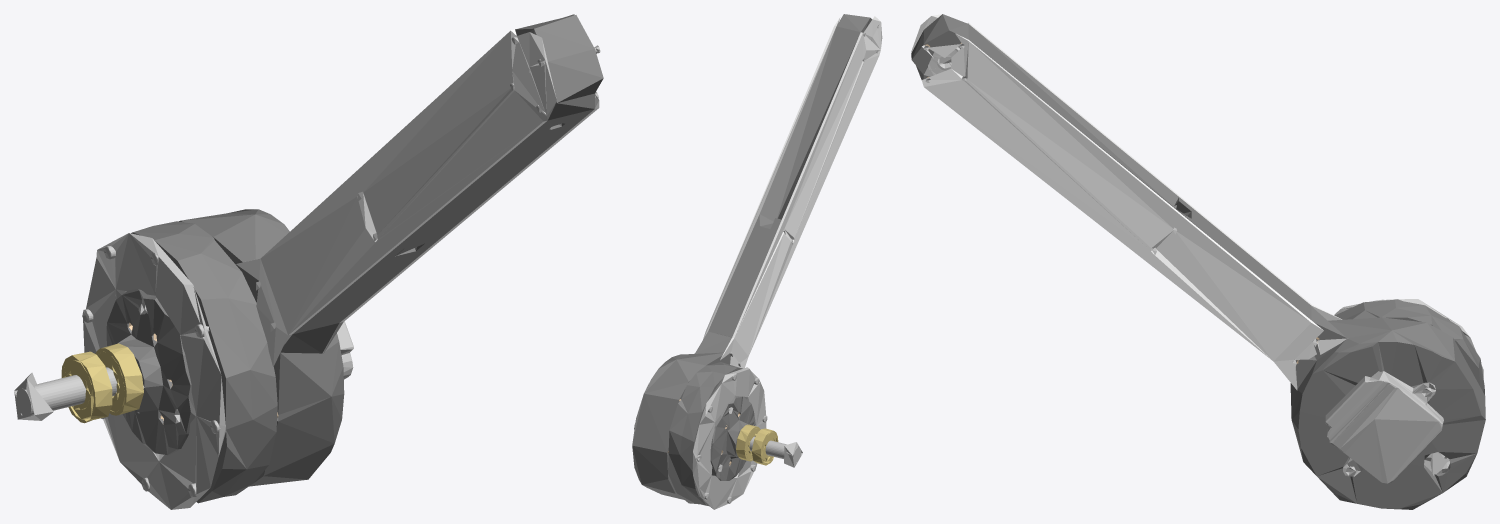
Rendered from shin_xm.glb.
3 renders of one model, left to right at view 1: azimuth 30°, elevation 25°; view 2: azimuth 150°, elevation 25°; view 3: azimuth 270°, elevation 25°, orthographic. The views are drawn at different scales.
Parts seen in each view (by area): view 1: shin_xm_100, shin_xm_105, shin_xm_101, shin_xm_102; view 2: shin_xm_100, shin_xm_105, shin_xm_101, shin_xm_102; view 3: shin_xm_100, shin_xm_105, shin_xm_101.
Boxes of the visible parts, left/top/right/bottom form: shin_xm_100: left=106, top=15, right=603, bottom=503; shin_xm_105: left=236, top=14, right=599, bottom=366; shin_xm_101: left=14, top=37, right=600, bottom=509; shin_xm_102: left=61, top=343, right=143, bottom=423; shin_xm_100: left=632, top=14, right=882, bottom=505; shin_xm_105: left=694, top=16, right=882, bottom=368; shin_xm_101: left=634, top=25, right=878, bottom=509; shin_xm_102: left=736, top=424, right=778, bottom=465; shin_xm_100: left=911, top=14, right=1485, bottom=509; shin_xm_105: left=911, top=14, right=1449, bottom=475; shin_xm_101: left=923, top=43, right=1483, bottom=483.
Size of the model in its own units: 0.134 by 0.3099 by 0.3395.
